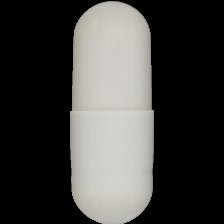63304-694: (0, 0, 224, 224)
